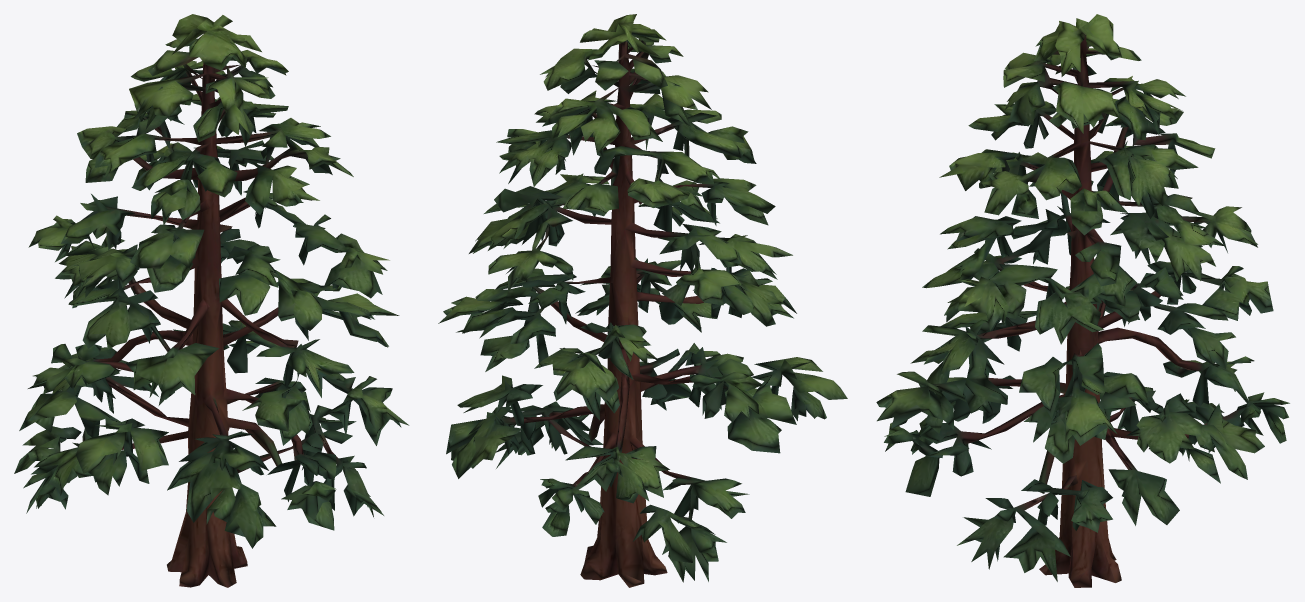
The model's file is hd_tree_pine.glb.
3 views of the same model, side by side, from view 1: azimuth 30°, elevation 25°; view 2: azimuth 150°, elevation 25°; view 3: azimuth 270°, elevation 25° (orthographic).
Visible parts, largest first — view 1: tripo_node_ffb5ce0c-35a9-4ab4-b6f0-929c9138ec72; view 2: tripo_node_ffb5ce0c-35a9-4ab4-b6f0-929c9138ec72; view 3: tripo_node_ffb5ce0c-35a9-4ab4-b6f0-929c9138ec72.
Boxes of the visible parts, box(x1,y1,x2,y2) form: tripo_node_ffb5ce0c-35a9-4ab4-b6f0-929c9138ec72: box(14, 14, 409, 587); tripo_node_ffb5ce0c-35a9-4ab4-b6f0-929c9138ec72: box(438, 14, 847, 587); tripo_node_ffb5ce0c-35a9-4ab4-b6f0-929c9138ec72: box(876, 14, 1289, 587).
Bounding box in the file's own units: 0.677 × 0.9948 × 0.6756.
1 material, 1 textured.
